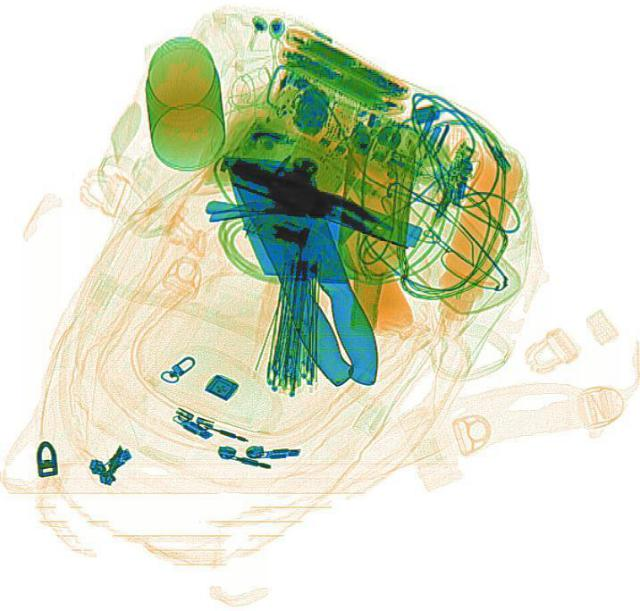Knife: (221, 134, 399, 389), (222, 138, 390, 399)
